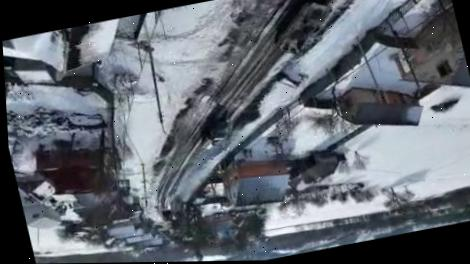tank: (265, 0, 340, 56)
truck: (195, 119, 232, 150), (157, 205, 174, 223)
